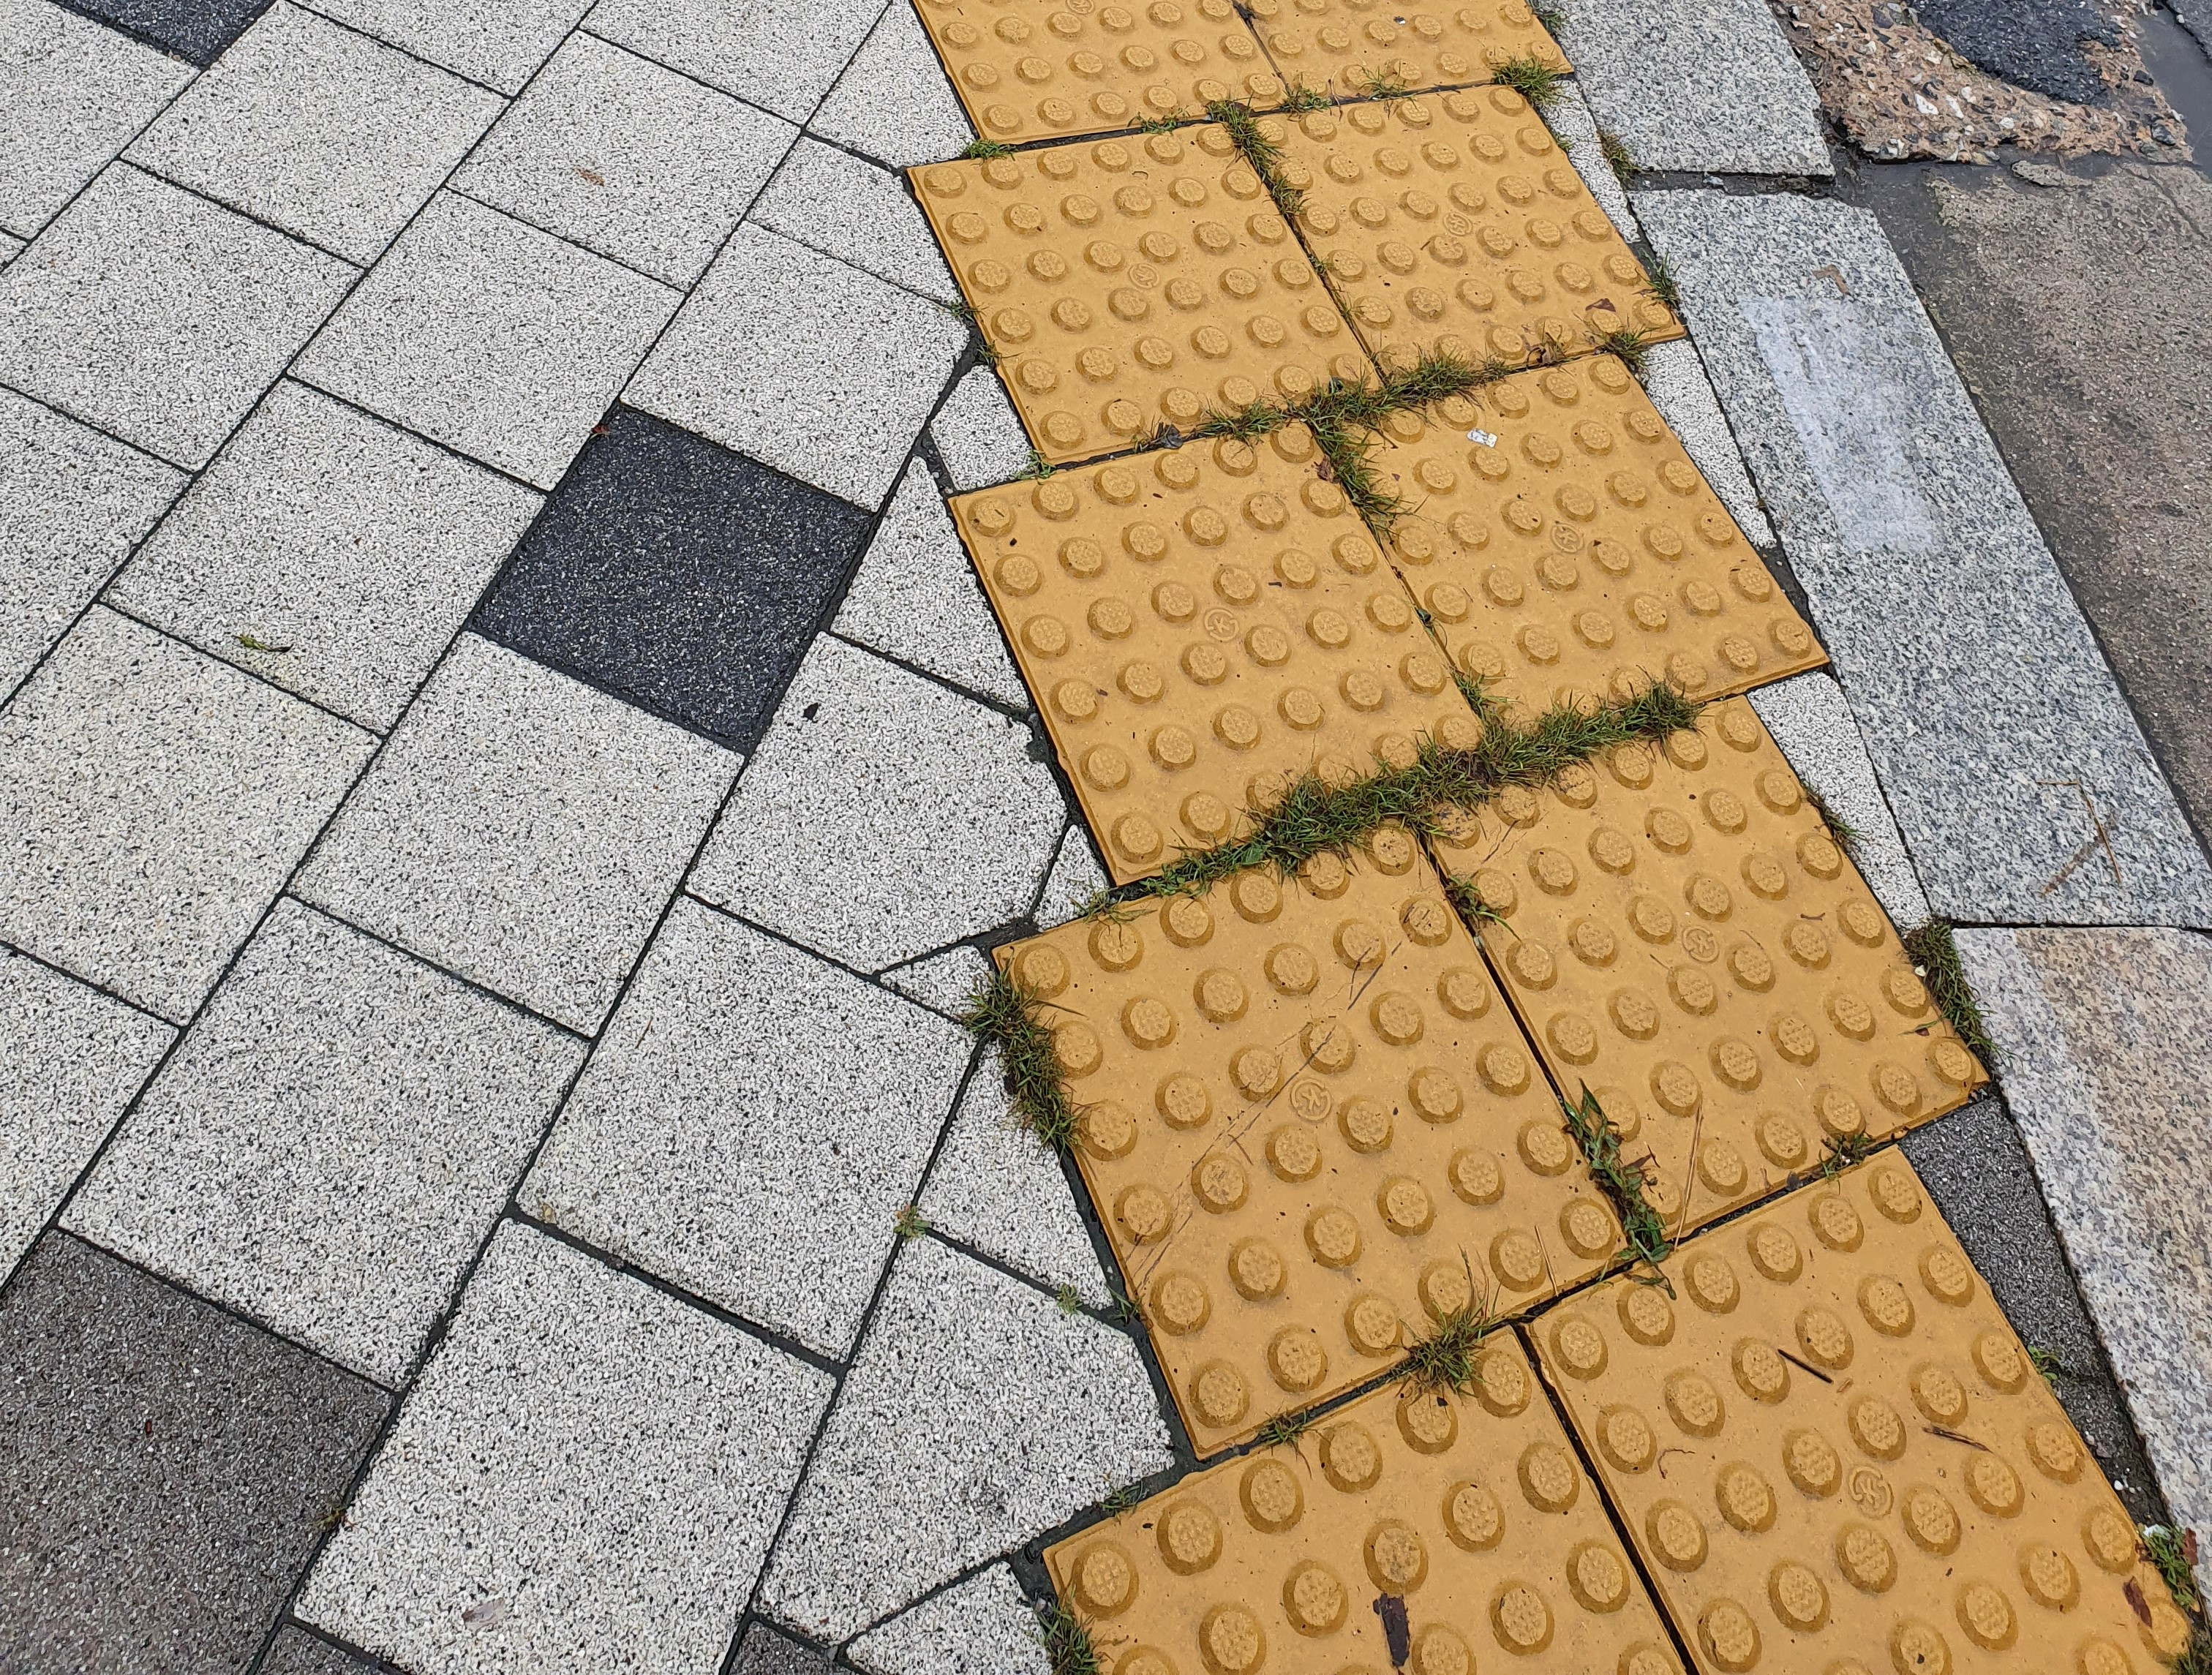warningBlock: (1424, 783, 2029, 1202), (924, 487, 1531, 887), (1015, 920, 1568, 1323), (1582, 1313, 2066, 1675), (924, 144, 1369, 475), (1367, 375, 1791, 714), (1269, 113, 1614, 340), (934, 11, 1290, 155)
